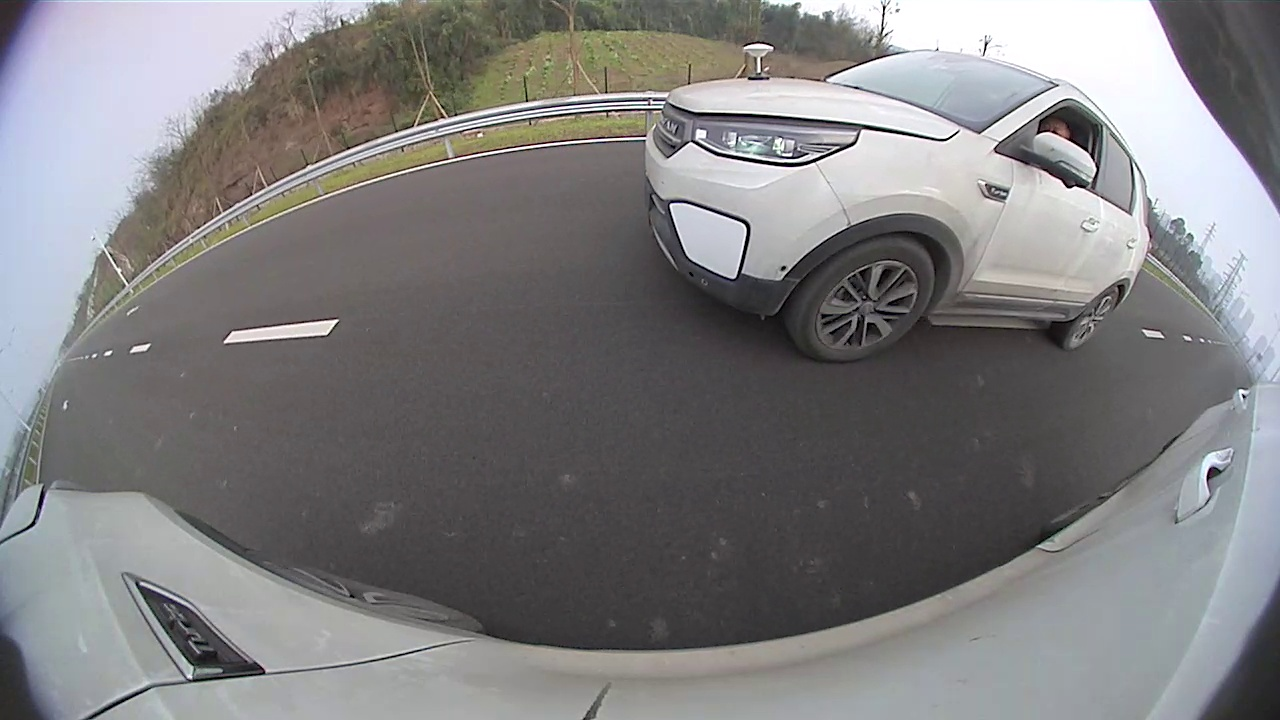car: (644, 45, 1153, 363)
front: (789, 239, 932, 361)
rear: (1062, 285, 1120, 353)
